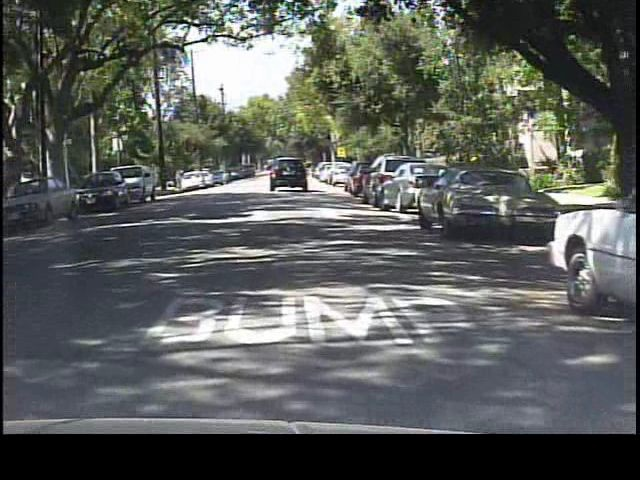person: (174, 167, 188, 195)
